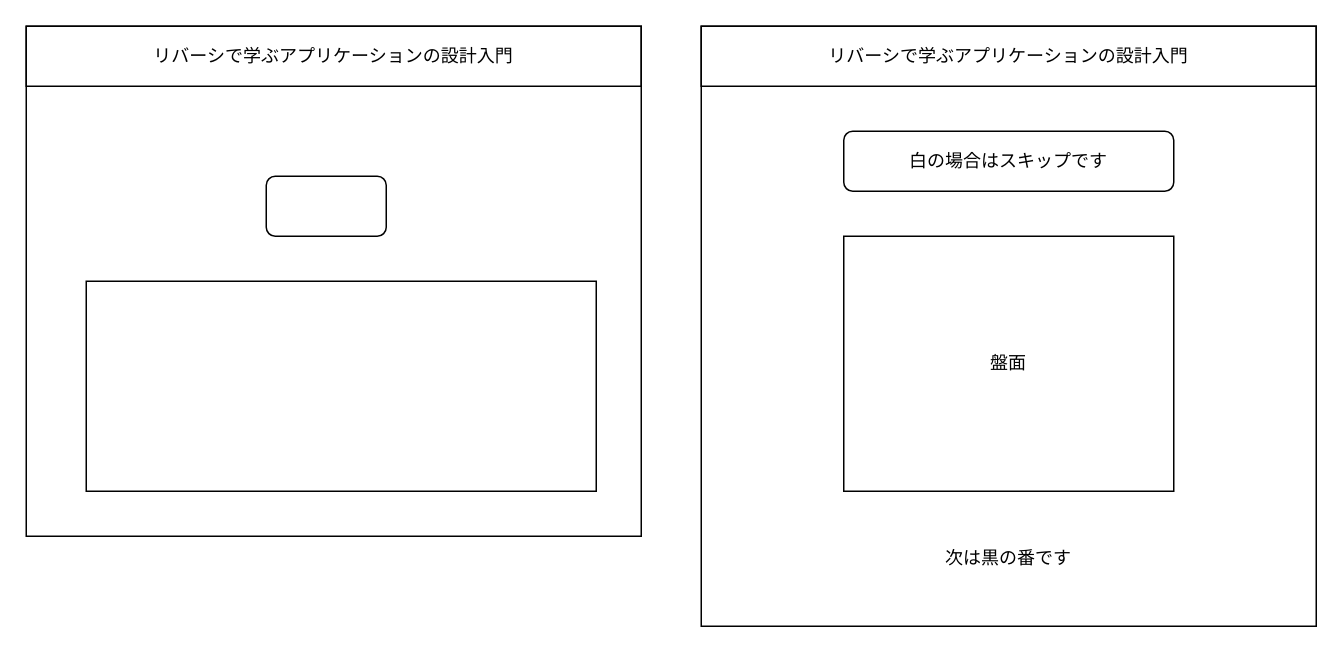
Image size: 1343x653. Some labels were removed from this diagram. Each missing label, with the box of its shape:
対戦する: (265, 175, 386, 236)
過去の対戦結果: (85, 280, 596, 491)
